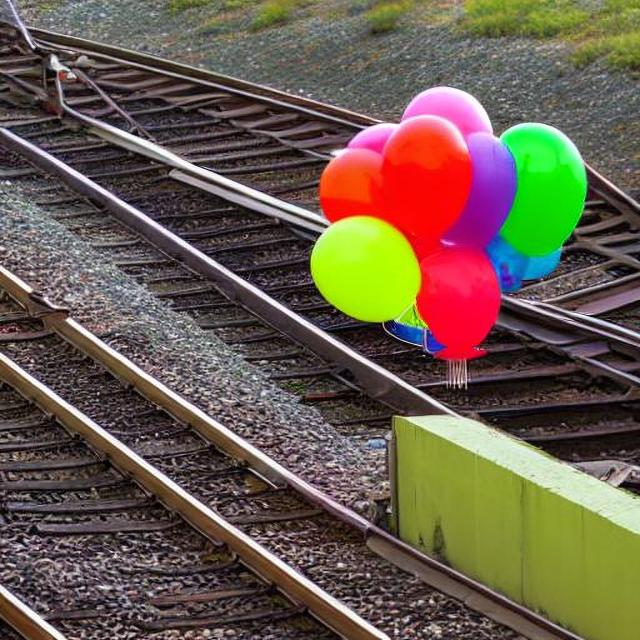balloon: (298, 90, 586, 391)
